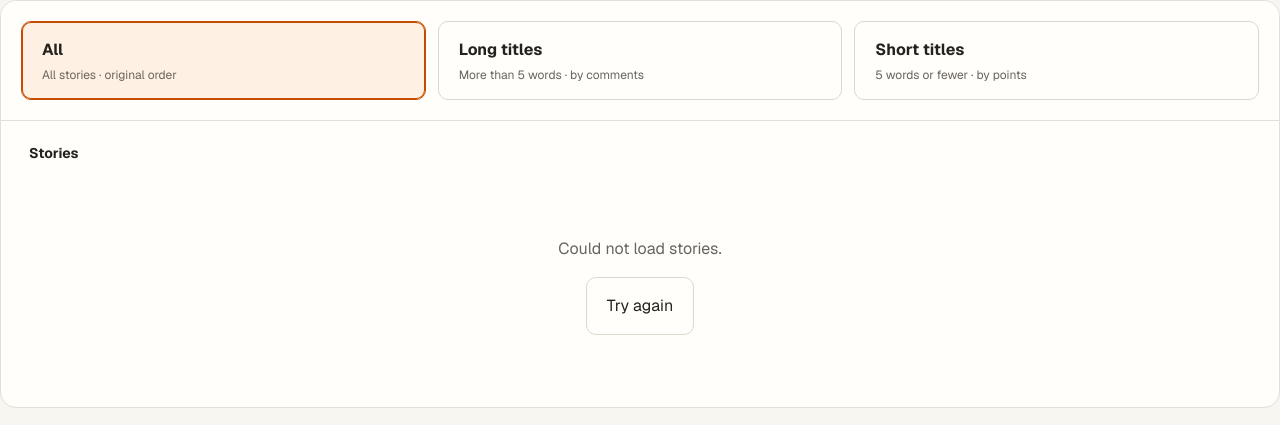
Test: entries data › shows a HTTP failure and allows retrying
The width and height of the screenshot is (1280, 425).
Expected: the message reads "Could not load stories.", [558,238,722,259]
Click the button "Try again". click: (640, 306)
box: [586,277,694,335]
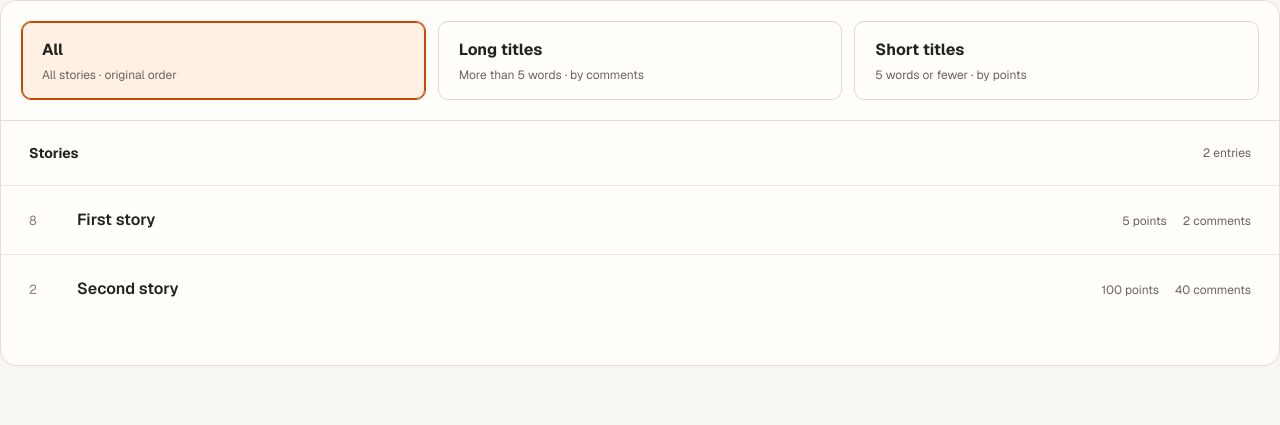
Expected: the heading "First story" is shown, [77,209,156,230]
Expected: the message "Could not load stories." is gone
